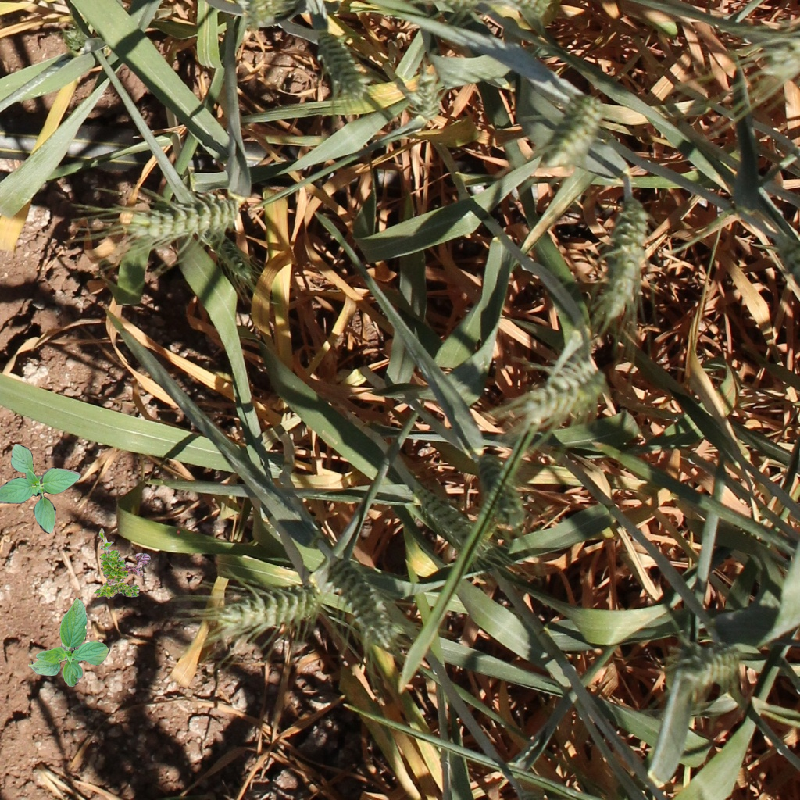spikelet: (322, 552, 401, 646), (595, 194, 651, 322), (123, 193, 243, 244), (519, 359, 607, 426), (213, 584, 321, 635), (311, 23, 371, 101), (405, 481, 474, 547), (544, 93, 605, 167), (678, 640, 746, 689), (208, 234, 259, 284), (405, 66, 446, 127)
weed: (28, 597, 110, 687), (1, 444, 81, 534), (94, 528, 151, 599)
